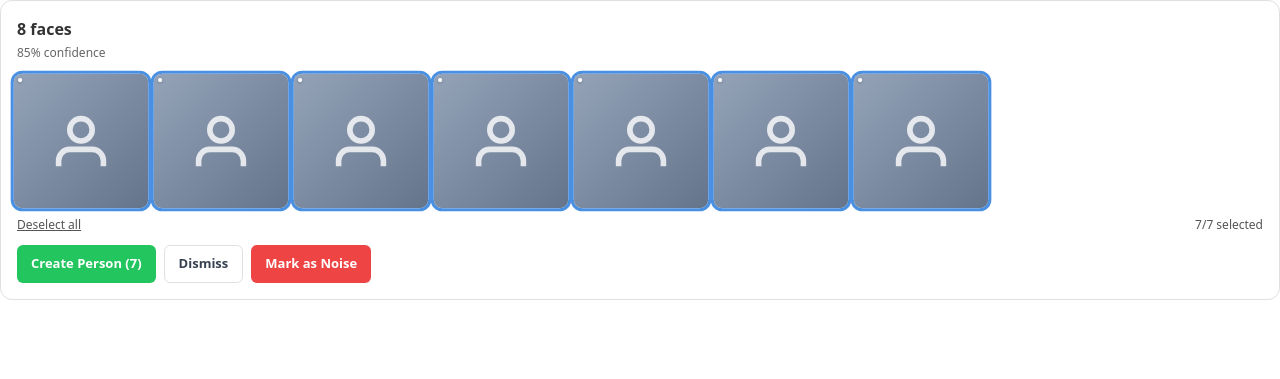
Test: UnlabeledGroupCard › shows error when dismiss API fails
Click the button "Dismiss": (203, 264) [164,245,243,282]
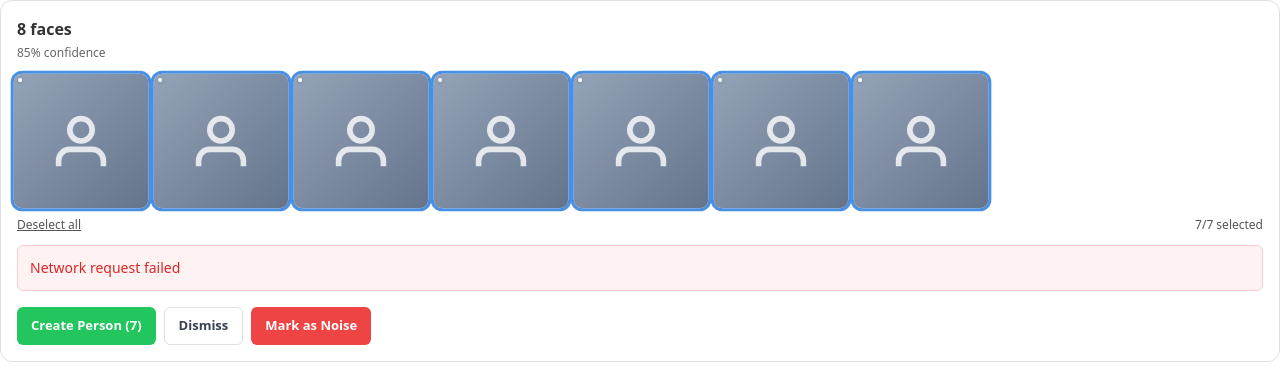
Result: the message "Network request failed" is shown at [17,245,1263,291]
